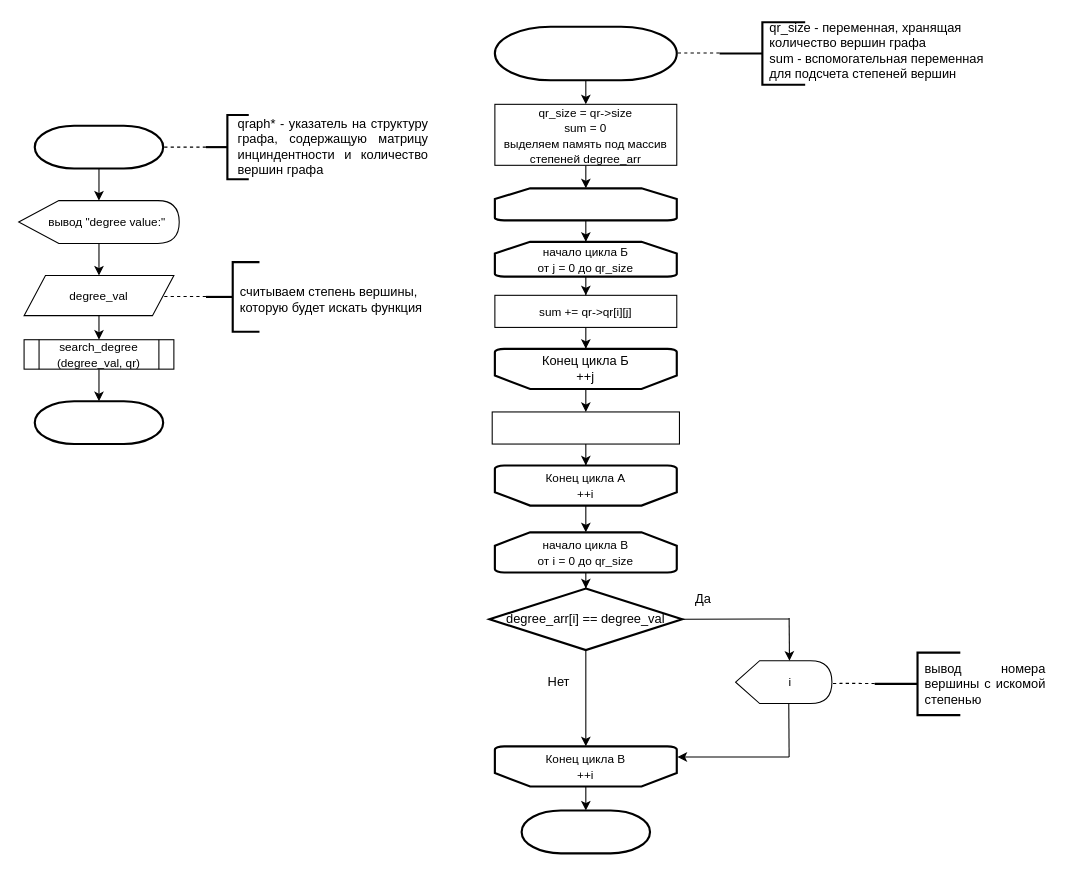
This 1065x872 diagram has some shape labels left out. Each missing label, with the centre of its shape:
degree_arr[i] = sum sum = 0: point 585,427
конец алгоритма: point 98,422
конец функции: point 585,831
начало алгоритма: point 98,146
начало функции search_degree (degree_val ,qraph* qr): point 585,53
начало цикла А от i = 0 до qr_size: point 585,204
